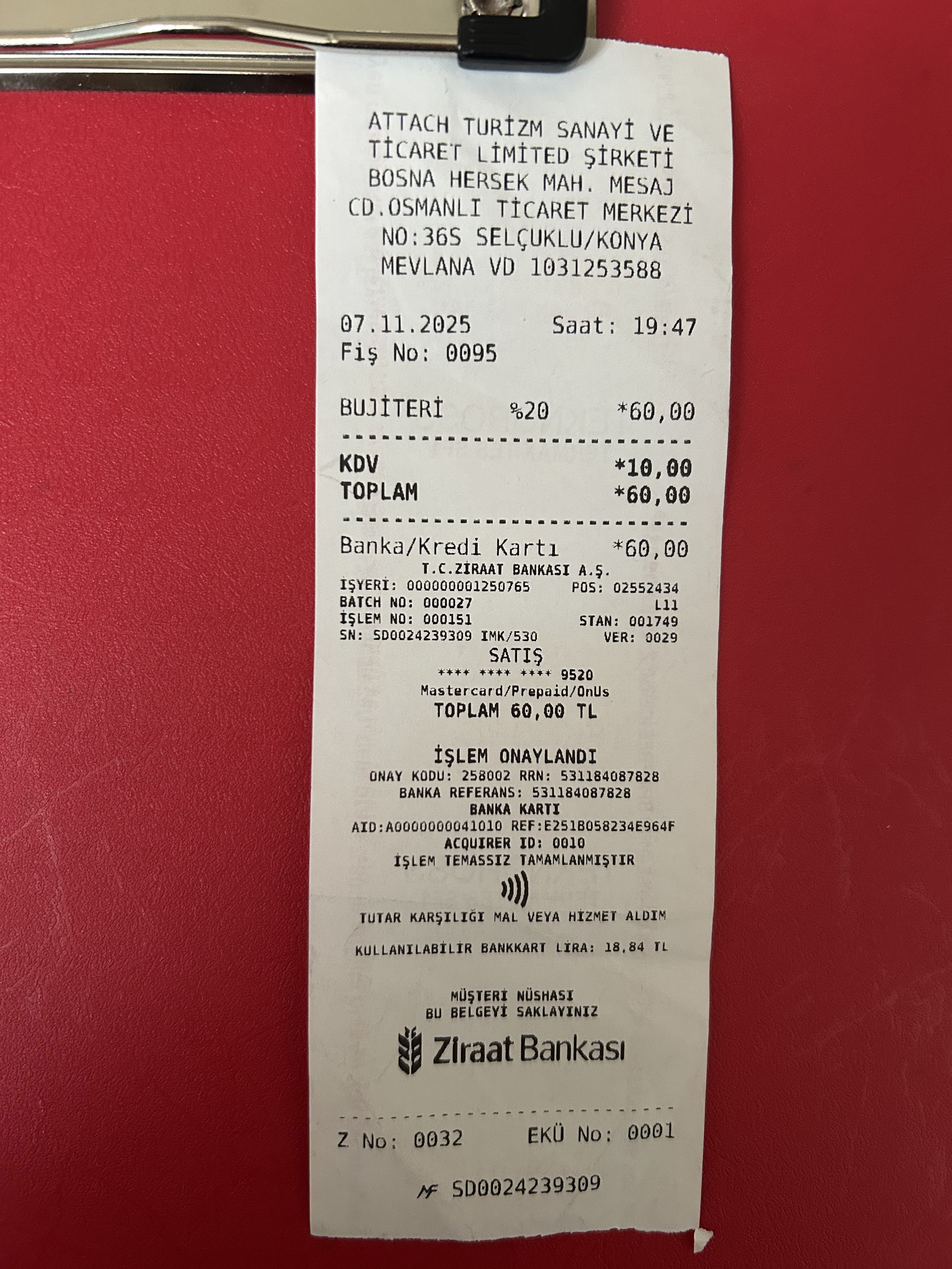date: (625, 479, 696, 510)
price: (337, 307, 473, 337)
workplace: (340, 103, 712, 253)
